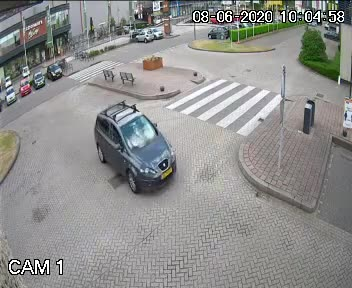car: (94, 106, 176, 189)
